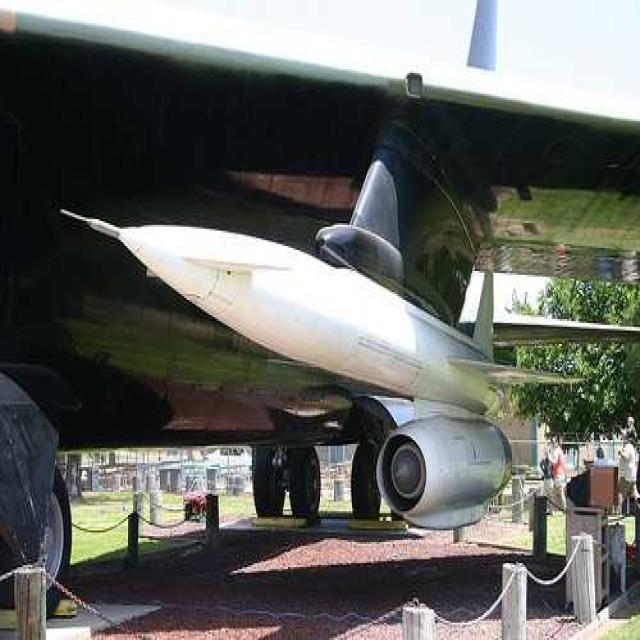missile: (58, 198, 531, 418)
